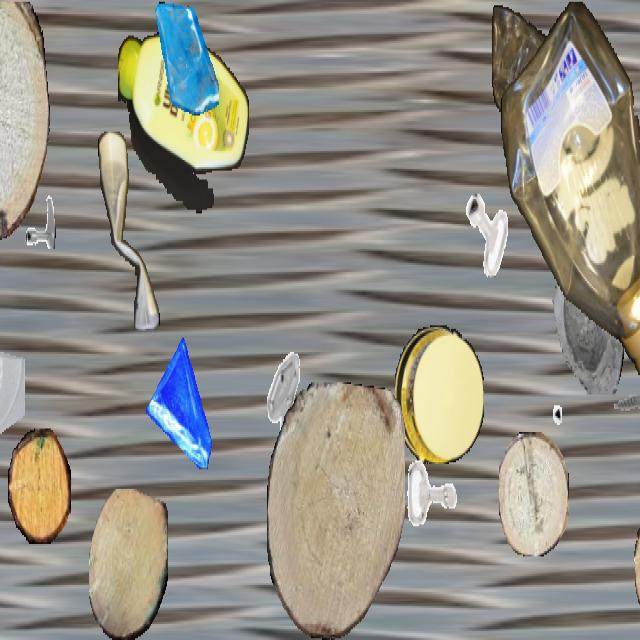glass: (537, 234, 627, 394), (146, 338, 220, 469), (155, 1, 219, 116), (0, 309, 24, 473)
metal: (401, 439, 463, 549), (253, 349, 313, 455), (512, 353, 562, 442), (463, 190, 511, 276), (14, 174, 56, 249), (609, 363, 640, 455)
plastic: (501, 1, 640, 378), (118, 32, 248, 213), (98, 132, 160, 330), (395, 325, 483, 464), (492, 2, 566, 126)
wood: (267, 382, 405, 638), (0, 2, 49, 247), (89, 489, 167, 638), (499, 432, 569, 556), (8, 428, 70, 542), (634, 521, 640, 638)
